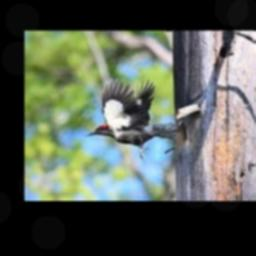Woodpecker: (84, 78, 180, 160)
